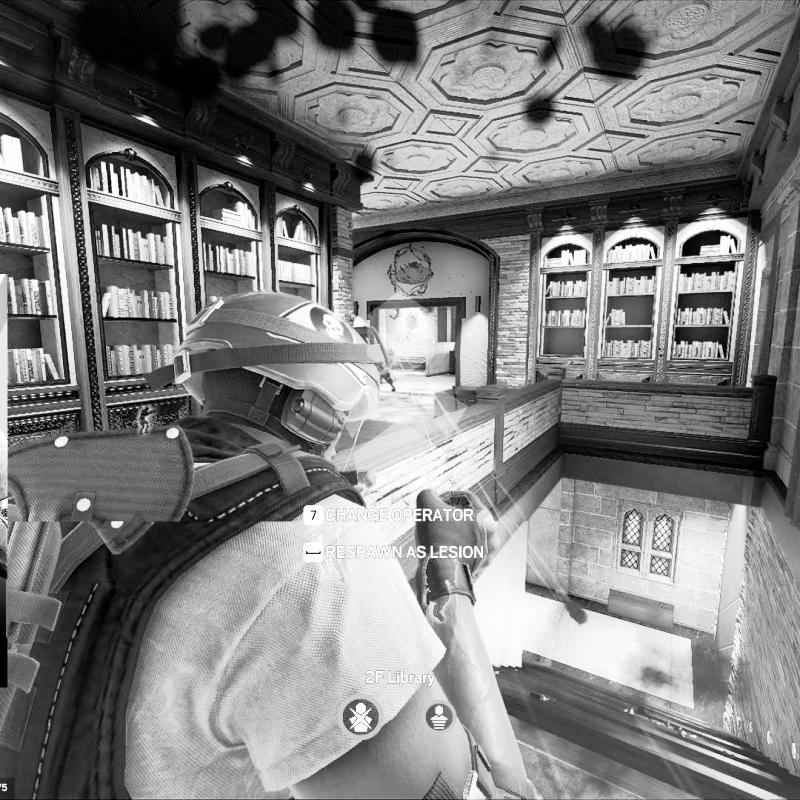Character: (0, 286, 549, 800), (377, 339, 399, 393)
